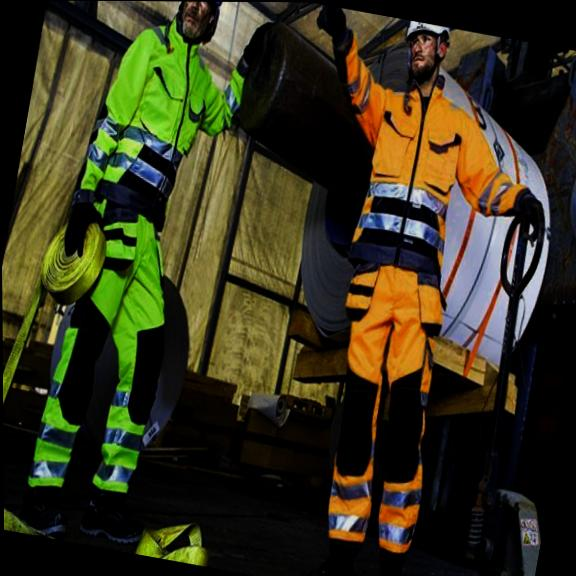safety_vest: (316, 54, 509, 309), (65, 4, 237, 274)
